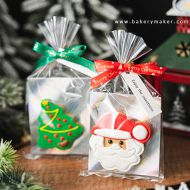Snack: (81, 28, 169, 184)
